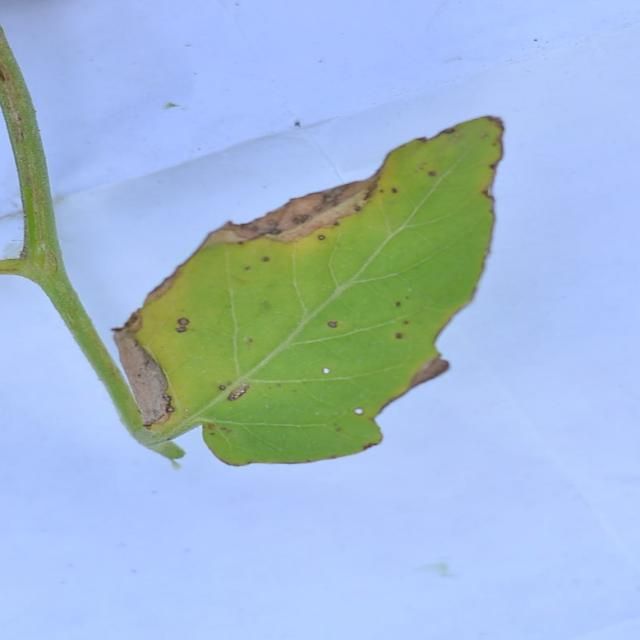infected: (78, 112, 504, 470)
